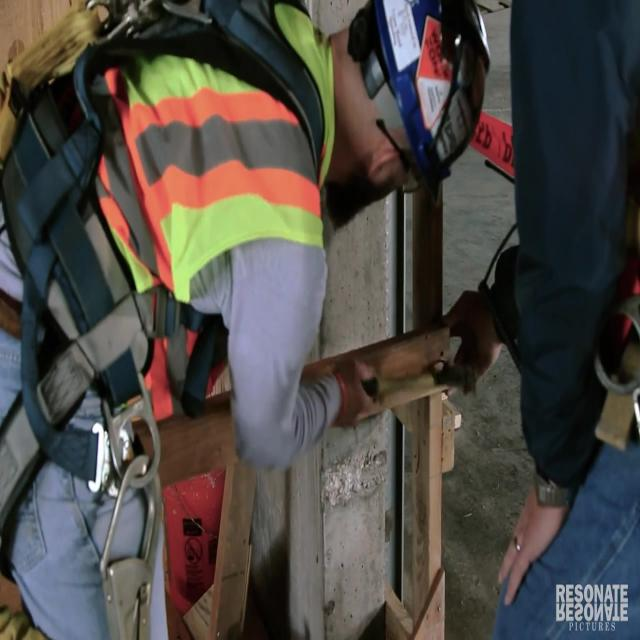Reflective-Jacket: (0, 1, 349, 374)
